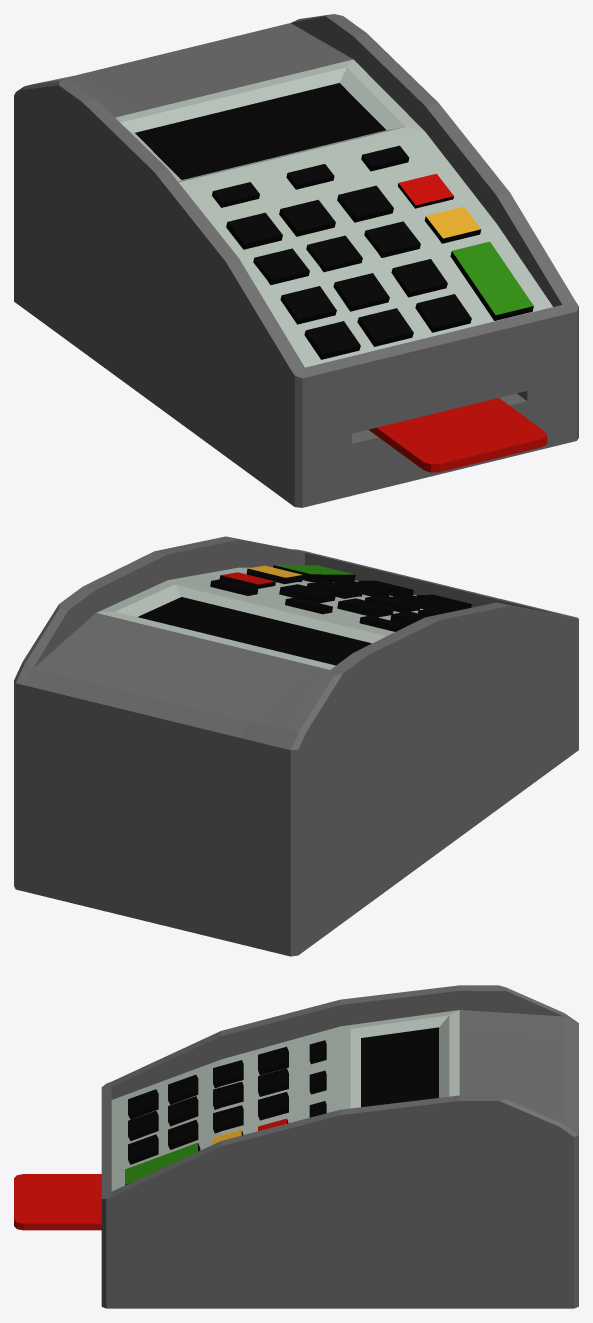
The model's file is Ma_Card_Payment.fbx.
The picture shows the model from 3 angles, top to bottom: view 1: azimuth 30°, elevation 25°; view 2: azimuth 150°, elevation 25°; view 3: azimuth 270°, elevation 25°; orthographic projection. The views are drawn at different scales.
Parts seen in each view (by area): view 1: Ma_Card_Payment; view 2: Ma_Card_Payment; view 3: Ma_Card_Payment.
Boxes of the visible parts, bbox=[...] form: Ma_Card_Payment: bbox=[14, 14, 578, 507]; Ma_Card_Payment: bbox=[14, 536, 578, 956]; Ma_Card_Payment: bbox=[14, 985, 578, 1308].
Size of the model in its own units: 90.82 by 188 by 76.14.
